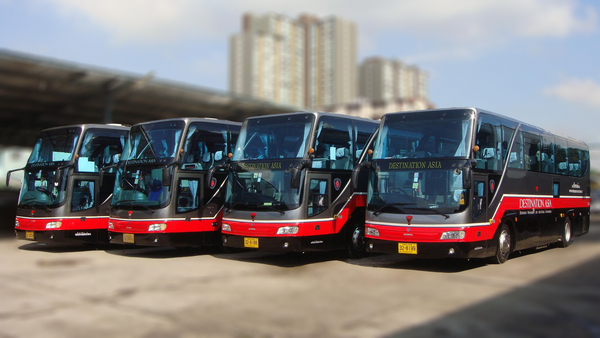bus: (366, 107, 590, 267), (222, 112, 363, 262), (108, 117, 219, 251), (15, 124, 106, 246)
